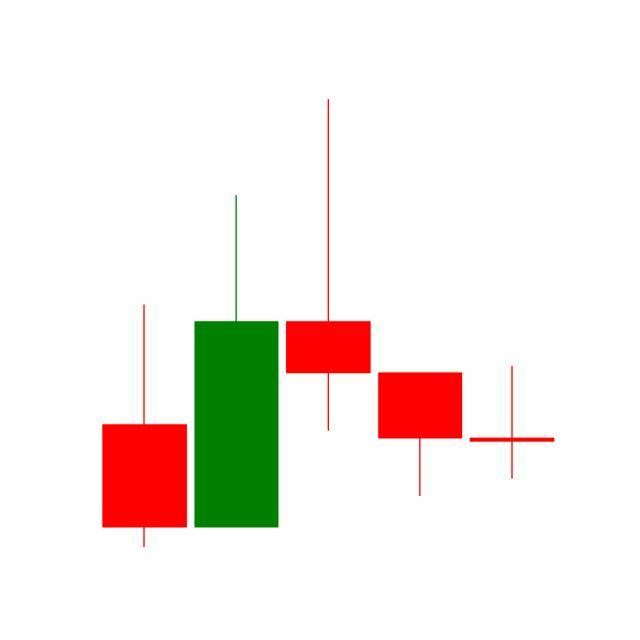Spinning Top: (466, 365, 559, 482)
